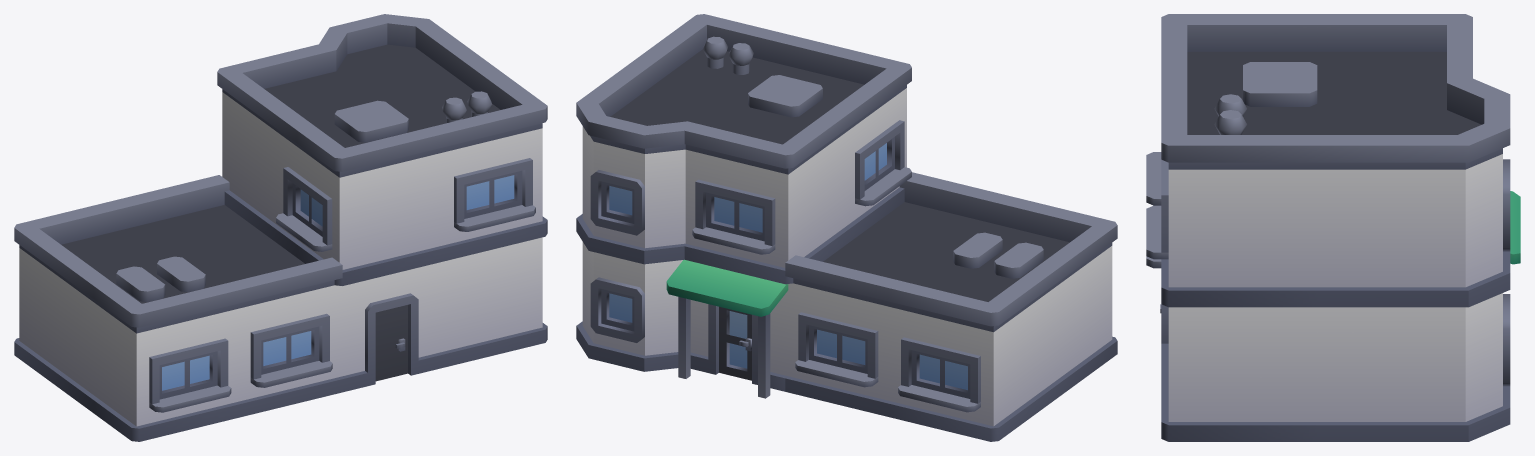
Rendered from city_4.fbx.
3 renders of one model, left to right at view 1: azimuth 30°, elevation 25°; view 2: azimuth 150°, elevation 25°; view 3: azimuth 270°, elevation 25°, orthographic. The views are drawn at different scales.
Parts seen in each view (by area): view 1: city_4; view 2: city_4; view 3: city_4.
Part boxes in pixels (x1,y1,x2,y2): city_4: (14, 14, 547, 441); city_4: (576, 14, 1117, 441); city_4: (1146, 14, 1520, 441).
Bounding box in the file's own units: 1.64 × 0.893 × 1.01.
Materials: 1 (1 with a texture image).
